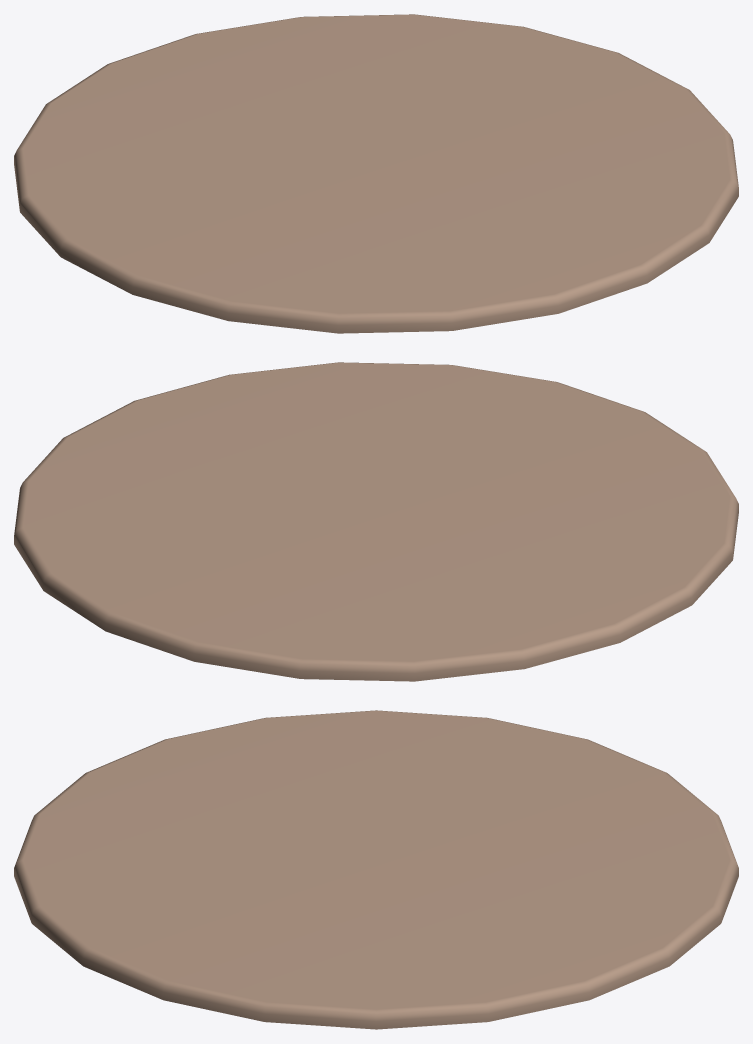
File: Carpet_6.glb
3 renders of one model, top to bottom at view 1: azimuth 30°, elevation 25°; view 2: azimuth 150°, elevation 25°; view 3: azimuth 270°, elevation 25°, orthographic.
Visible parts, largest first — view 1: Carpet_6; view 2: Carpet_6; view 3: Carpet_6.
Boxes of the visible parts, x1,y1,x2,y2 form: Carpet_6: [14, 14, 738, 333]; Carpet_6: [14, 362, 738, 681]; Carpet_6: [14, 710, 738, 1029].
Bounding box in the file's own units: 2.04 × 0.0506 × 2.04.
Materials: 1 (1 with a texture image).
